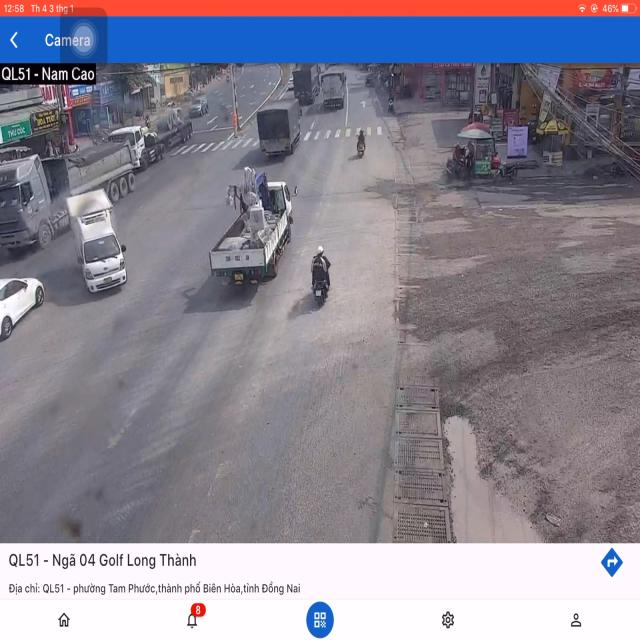car: (0, 272, 43, 349)
motorbike: (311, 245, 332, 311), (354, 130, 365, 155)
truck: (0, 133, 137, 250), (210, 172, 294, 287), (66, 192, 127, 293), (257, 96, 301, 158), (323, 73, 348, 112), (295, 66, 316, 106)
